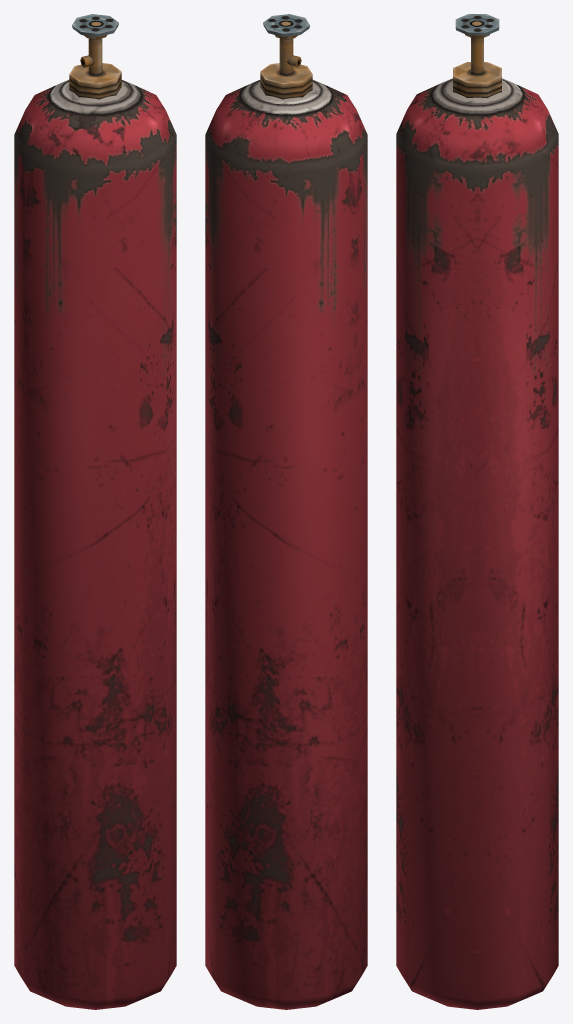
File: gasCylinder01.fbx
The picture shows the model from 3 angles, left to right: view 1: azimuth 30°, elevation 25°; view 2: azimuth 150°, elevation 25°; view 3: azimuth 270°, elevation 25°; orthographic projection.
Parts seen in each view (by area): view 1: gasCylinder01; view 2: gasCylinder01; view 3: gasCylinder01.
Part boxes in pixels (box(x1,y1,x2,y2)): gasCylinder01: box(14, 14, 176, 1009); gasCylinder01: box(205, 14, 367, 1009); gasCylinder01: box(396, 14, 558, 1009).
Bounding box in the file's own units: 22.97 × 150 × 22.97.
